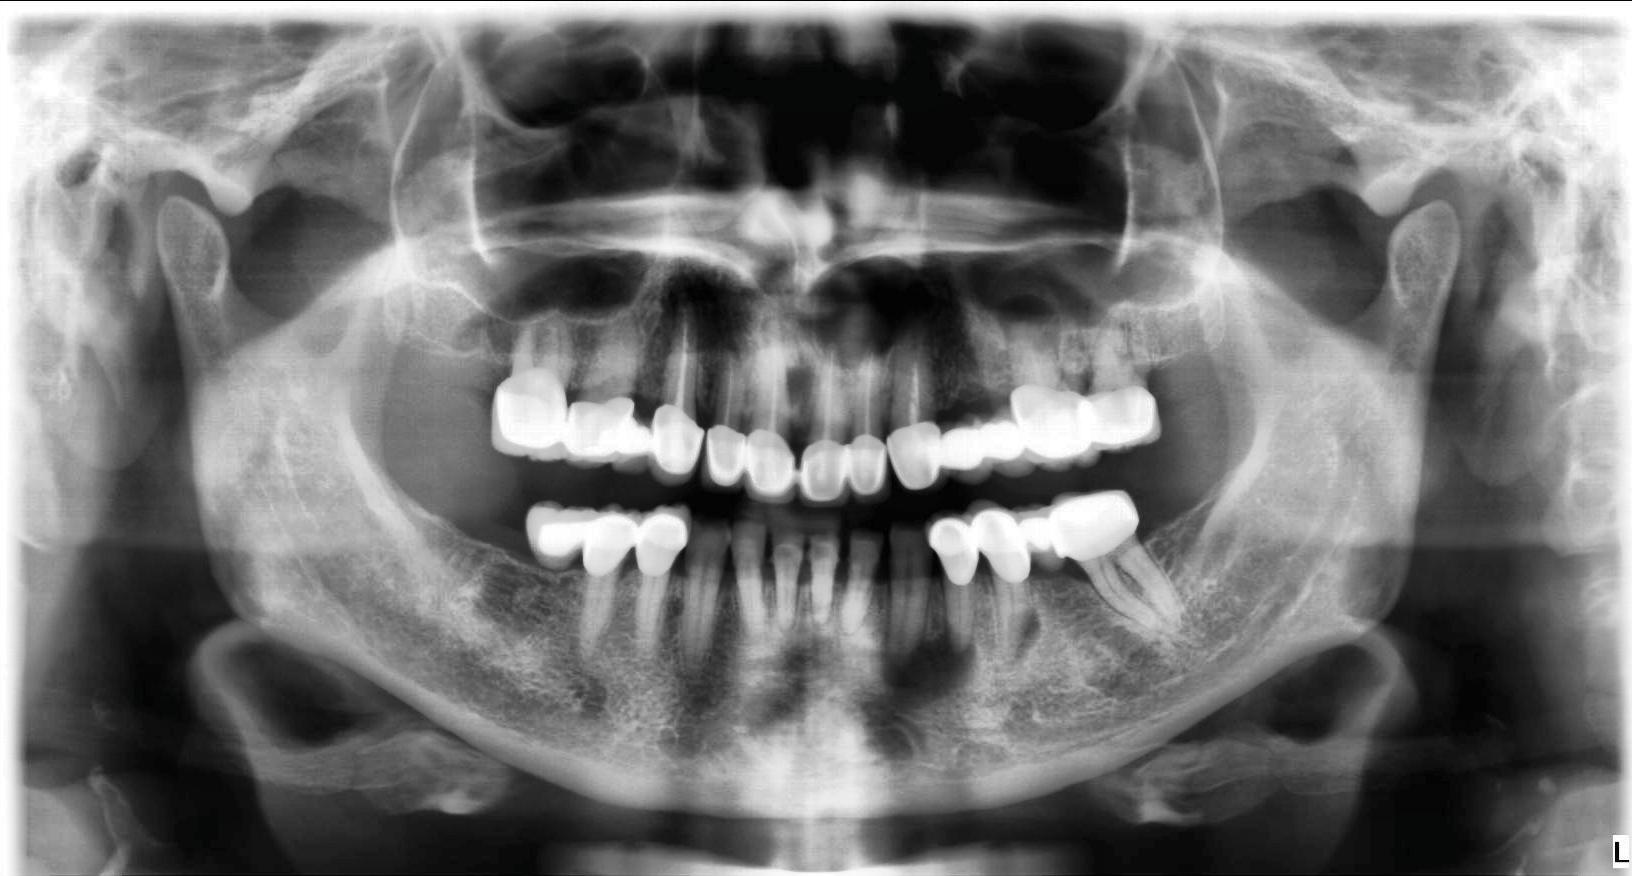radikuler: (812, 253, 944, 372)
